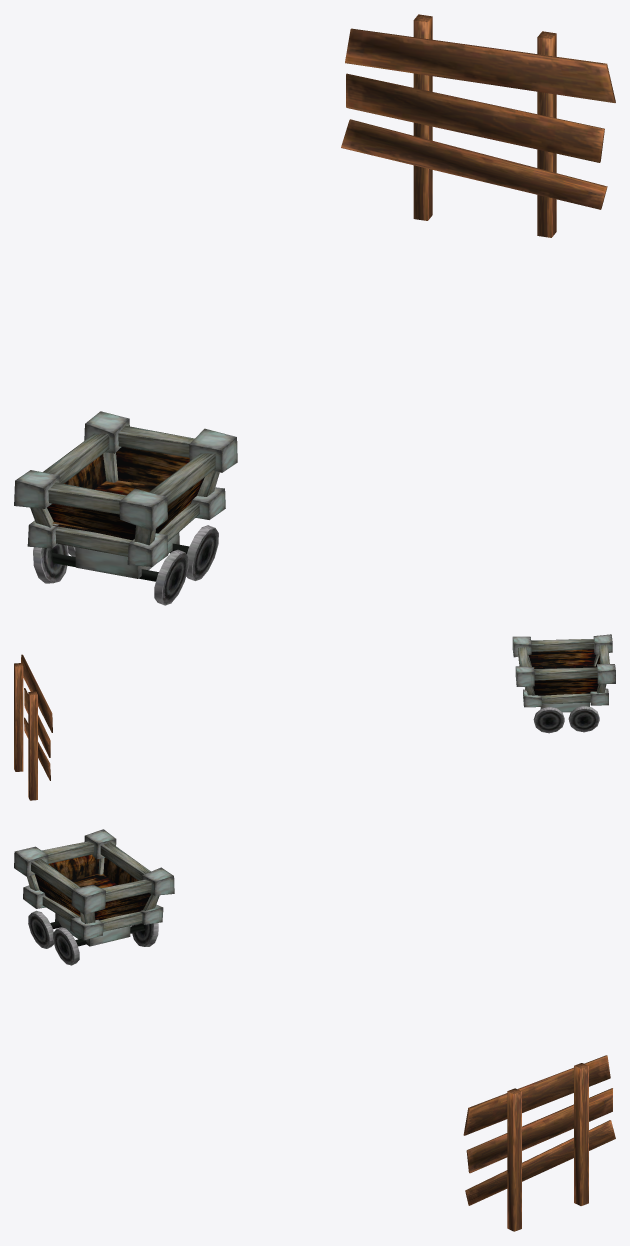
Rendered from CART_CRASH_ANIMINST.fbx.
3 views of the same model, one above another, from view 1: azimuth 30°, elevation 25°; view 2: azimuth 150°, elevation 25°; view 3: azimuth 270°, elevation 25° (orthographic). The views are drawn at different scales.
Visible parts, largest first — view 1: CART_CRASH_ANIMINST; view 2: CART_CRASH_ANIMINST; view 3: CART_CRASH_ANIMINST.
Boxes of the visible parts, box(x1,y1,x2,y2) form: CART_CRASH_ANIMINST: box(14, 14, 615, 605); CART_CRASH_ANIMINST: box(14, 634, 615, 800); CART_CRASH_ANIMINST: box(14, 829, 615, 1231).
Size of the model in its own units: 75407 by 16593 by 65922.
3 materials, 3 textured.
